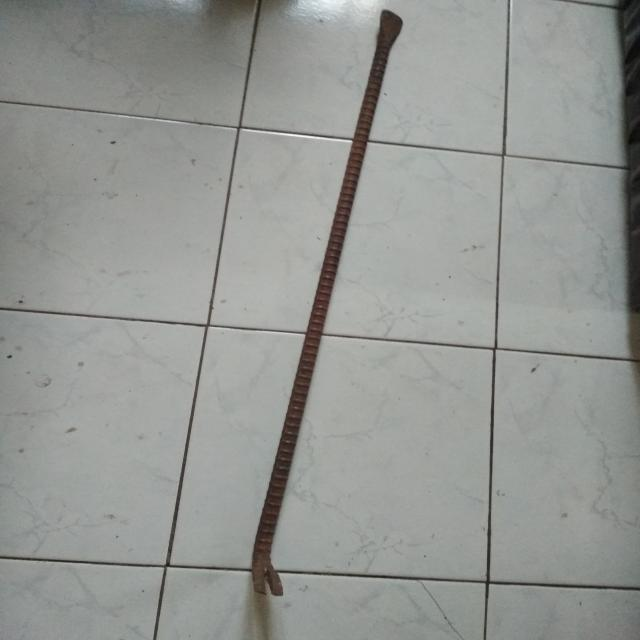Linggis: (253, 14, 405, 600)
